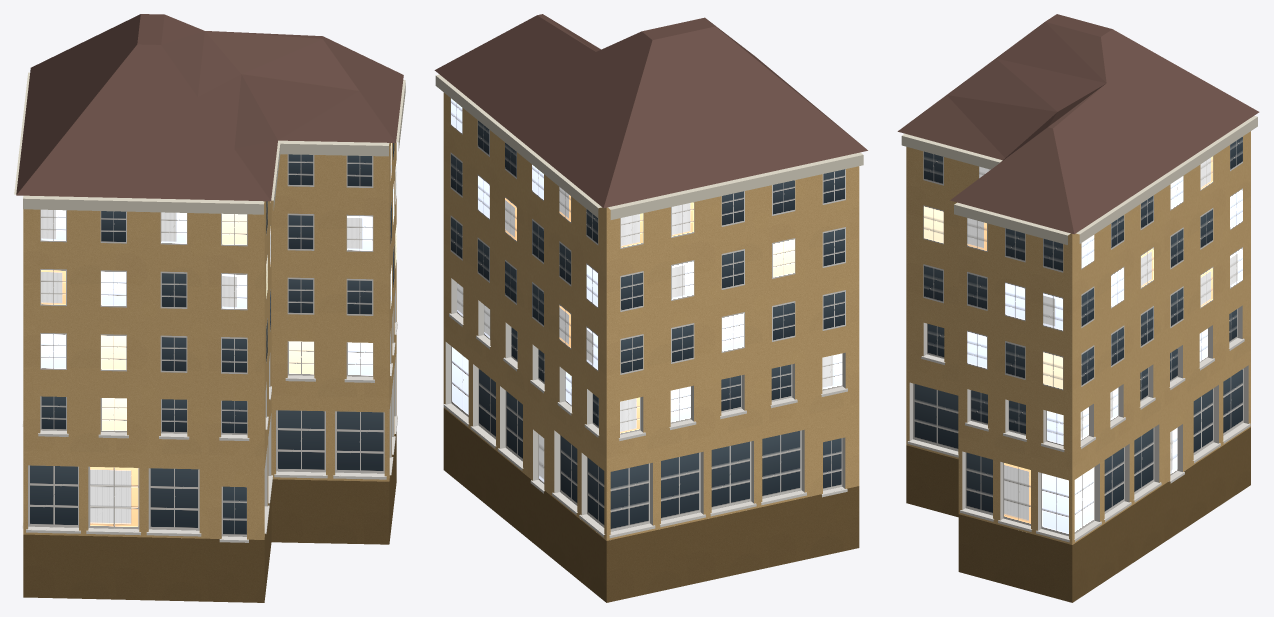
Rendered from z3c_hb_ochre.glb.
The picture shows the model from 3 angles, left to right: view 1: azimuth 30°, elevation 25°; view 2: azimuth 150°, elevation 25°; view 3: azimuth 270°, elevation 25°; orthographic projection. The views are drawn at different scales.
Parts seen in each view (by area): view 1: z3c_hb_ochre; view 2: z3c_hb_ochre; view 3: z3c_hb_ochre.
Boxes of the visible parts, x1,y1,x2,y2 form: z3c_hb_ochre: (14, 14, 405, 602); z3c_hb_ochre: (434, 14, 867, 602); z3c_hb_ochre: (897, 14, 1259, 602).
Bounding box in the file's own units: 20.66 × 24.29 × 17.01.
3 materials, 3 textured.
